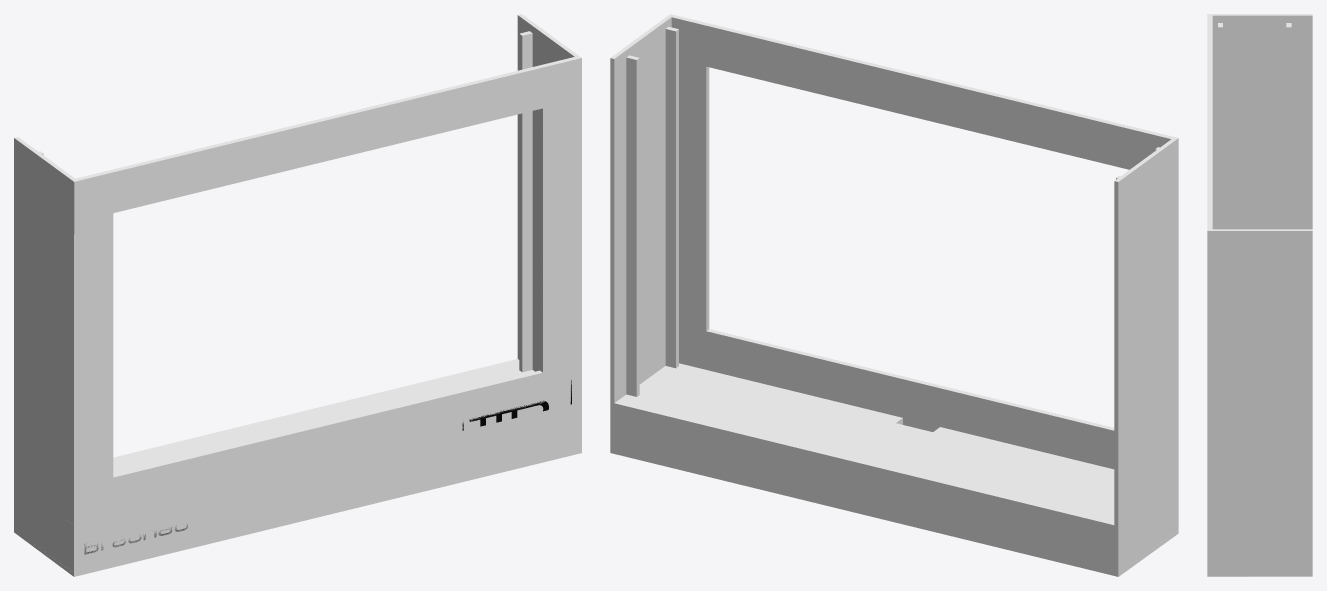
3 renders of one model, left to right at view 1: azimuth 30°, elevation 25°; view 2: azimuth 150°, elevation 25°; view 3: azimuth 270°, elevation 25°, orthographic. The views are drawn at different scales.
Parts seen in each view (by area): view 1: SketchUp (×4), image_0; view 2: SketchUp (×3); view 3: SketchUp (×2).
Part boxes in pixels (left/top/right/bottom): SketchUp (×4): left=14, top=14, right=581, bottom=576; image_0: left=81, top=471, right=197, bottom=562; SketchUp (×3): left=610, top=14, right=1178, bottom=576; SketchUp (×2): left=1207, top=14, right=1312, bottom=576.
Bounding box in the file's own units: 7.68 × 1.57 × 5.71.
Materials: 4 (2 with a texture image).
